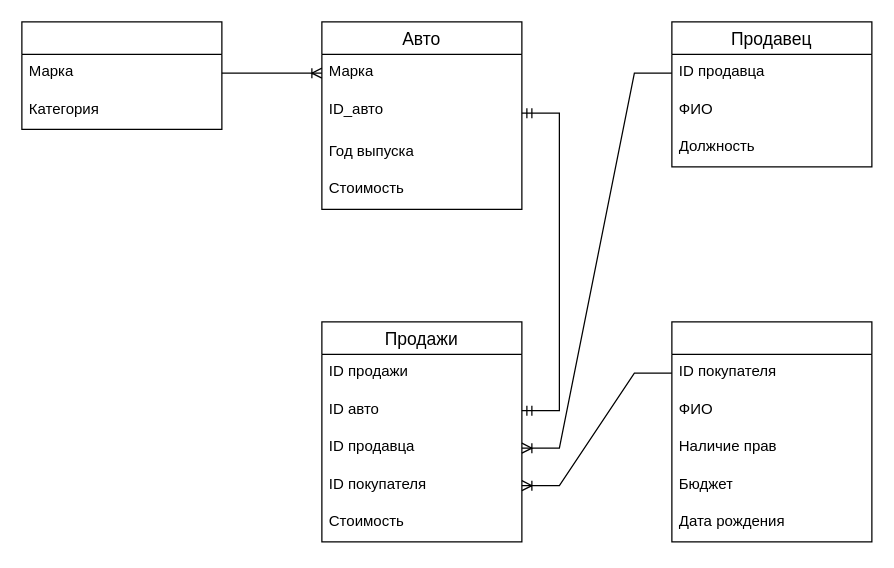
This 894x568 diagram has some shape labels left out. Each missing label, with the box of its shape:
Марки: (21, 21, 222, 129)
Покупатель: (671, 321, 872, 542)
